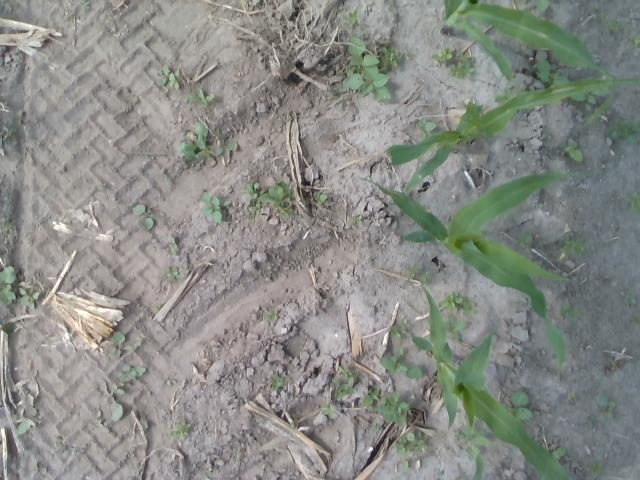Maize: (356, 171, 596, 382), (408, 278, 574, 480), (384, 76, 640, 192), (442, 0, 616, 125)
Weeds: (339, 36, 391, 102), (178, 121, 236, 162), (243, 183, 296, 218), (430, 47, 476, 80), (378, 347, 424, 380), (454, 420, 490, 462), (374, 391, 411, 426), (498, 390, 534, 424), (98, 380, 124, 424), (391, 430, 429, 456), (200, 191, 230, 223), (438, 291, 476, 316), (532, 58, 568, 84), (104, 331, 133, 361), (570, 88, 609, 110), (605, 116, 640, 140), (0, 265, 19, 304), (154, 64, 182, 90), (558, 236, 586, 260), (376, 45, 404, 69), (415, 114, 437, 142), (132, 204, 154, 232), (444, 314, 466, 342), (184, 88, 214, 108), (595, 393, 616, 419), (600, 12, 628, 31), (388, 318, 412, 340), (405, 265, 430, 286), (18, 287, 41, 309), (332, 378, 357, 398), (117, 363, 146, 380), (338, 365, 363, 384), (493, 86, 516, 105), (564, 141, 584, 162), (169, 420, 191, 438), (558, 303, 582, 319), (1, 126, 22, 144), (342, 9, 361, 28), (361, 387, 380, 406), (516, 233, 534, 253), (547, 444, 567, 460), (318, 402, 336, 419), (627, 191, 640, 212), (164, 266, 181, 281), (166, 234, 178, 255), (313, 190, 328, 206), (587, 460, 603, 475), (270, 374, 284, 390), (0, 217, 14, 233), (16, 420, 31, 434), (264, 309, 280, 322), (628, 32, 640, 48), (347, 214, 364, 225), (534, 0, 550, 11), (112, 382, 125, 395), (622, 292, 636, 304), (402, 460, 412, 470), (0, 323, 9, 333), (631, 315, 640, 325), (518, 82, 527, 92), (568, 390, 576, 398), (372, 426, 381, 431), (154, 306, 161, 312), (98, 184, 104, 190)
